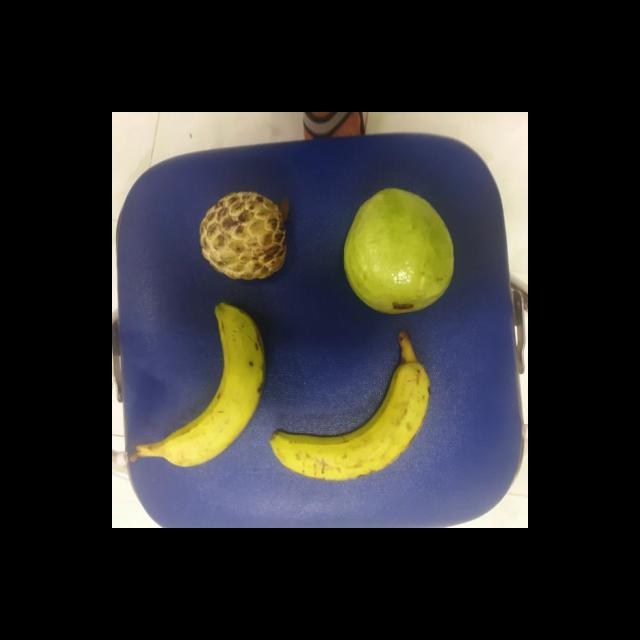Sakya fruit: (193, 186, 291, 286)
banana: (266, 352, 434, 486), (155, 298, 268, 471)
guava: (342, 184, 456, 316)
